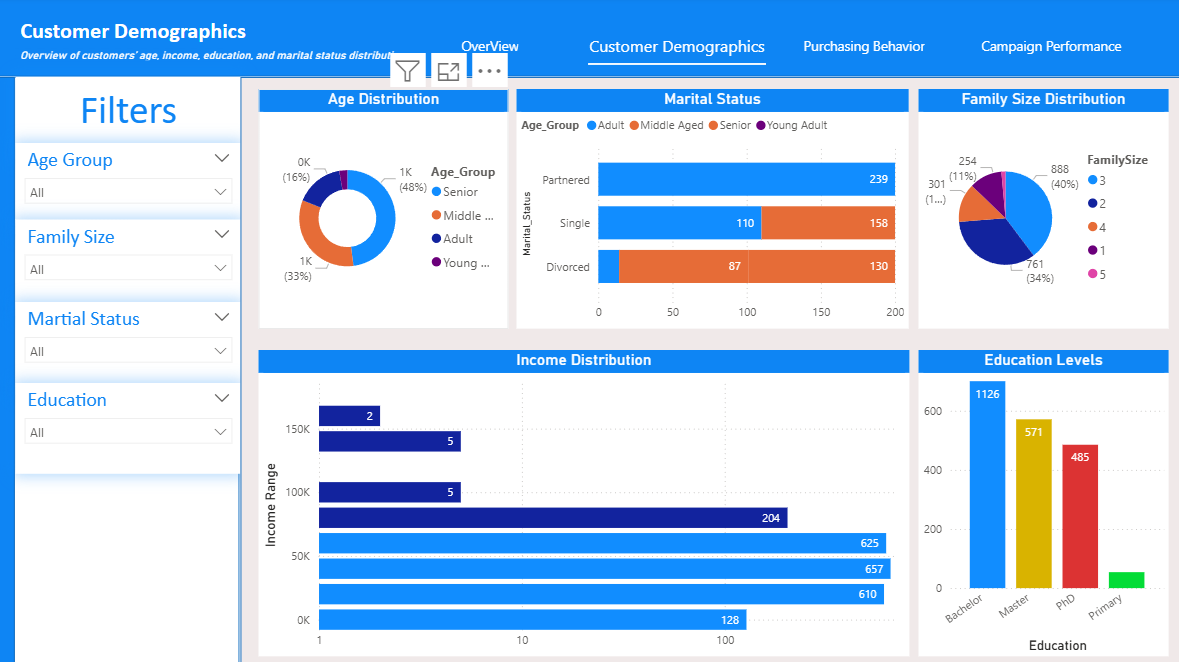

What the dashboard file says about the page in this screenshot:
{"tool":"powerbi","page":{"name":"Customer Demographics","canvas":[1280,720],"ordinal":1},"visuals":[{"type":"shape","box":[0,0,1281.3,86.9],"z":0},{"type":"shape","box":[0,86.9,17,633.1],"z":1000},{"type":"textbox","title":"Customer Demographics","box":[17,22.7,340.2,34],"z":2000},{"type":"textbox","title":"Overview of customers’ age, income, education, and marital status distribution","box":[17.8,56.7,461.5,13],"z":3000},{"type":"shape","box":[16.7,86.7,243.3,633.3],"z":4000},{"type":"textbox","title":"Filters","box":[17,86.9,243.8,88.8],"z":5000},{"type":"slicer","fields":{"Values":["Marketing Campaign CLeaned.Age_Group"]},"box":[17,158.7,243.8,98.3],"z":6000},{"type":"slicer","fields":{"Values":["Marketing Campaign CLeaned.FamilySize"]},"box":[17,241.9,243.8,103.9],"z":7000},{"type":"slicer","fields":{"Values":["Marketing Campaign CLeaned.Marital_Status"]},"box":[17,330.7,243.8,100.2],"z":8000},{"type":"slicer","fields":{"Values":["Marketing Campaign CLeaned.Education"]},"box":[17,417.6,243.8,98.3],"z":9000},{"type":"shape","box":[260.8,86.9,1018.6,633.1],"z":10000},{"type":"donutChart","title":"Age Distribution","fields":{"Category":["Marketing Campaign CLeaned.Age_Group"],"Y":["Marketing Campaign CLeaned.Total Customers"]},"box":[279.7,100.2,270.2,258.9],"z":11000},{"type":"barChart","title":"Income Distribution","fields":{"Category":["Marketing Campaign CLeaned.Income (bins) 2"],"Y":["Marketing Campaign CLeaned.Total Customers"]},"box":[279.7,381.7,703,330.7],"z":12000},{"type":"columnChart","title":"Education Levels","fields":{"Category":["Marketing Campaign CLeaned.Education"],"Y":["Marketing Campaign CLeaned.Total Customers"]},"box":[992.1,381.7,270.2,330.7],"z":13000},{"type":"barChart","title":"Marital Status","fields":{"Y":["Marketing Campaign CLeaned.Total Customers"],"Category":["Marketing Campaign CLeaned.Marital_Status"],"Series":["Marketing Campaign CLeaned.Age_Group"]},"box":[559.4,100.2,423.3,258.9],"z":14000},{"type":"pieChart","title":"Family Size Distribution","fields":{"Y":["Marketing Campaign CLeaned.Total Customers"],"Category":["Marketing Campaign CLeaned.FamilySize"]},"box":[992.1,100.2,270.2,258.9],"z":15000},{"type":"pageNavigator","box":[433.2,33.2,800.1,42.4],"z":15001}]}

Visuals, with their boxes on the page's 1280x720 design canvas (x1, y1, x2, y2). These are canvas units, not pixel positions in the 1179x662 screenshot, which may show the page scaled, cropped or inside an application window:
shape: {"x1": 0, "y1": 0, "x2": 1281, "y2": 87}
shape: {"x1": 0, "y1": 87, "x2": 17, "y2": 720}
"Customer Demographics" textbox: {"x1": 17, "y1": 23, "x2": 357, "y2": 57}
"Overview of customers’ age, income, education, and marital status distribution" textbox: {"x1": 18, "y1": 57, "x2": 479, "y2": 70}
shape: {"x1": 17, "y1": 87, "x2": 260, "y2": 720}
"Filters" textbox: {"x1": 17, "y1": 87, "x2": 261, "y2": 176}
slicer - Marketing Campaign CLeaned.Age_Group: {"x1": 17, "y1": 159, "x2": 261, "y2": 257}
slicer - Marketing Campaign CLeaned.FamilySize: {"x1": 17, "y1": 242, "x2": 261, "y2": 346}
slicer - Marketing Campaign CLeaned.Marital_Status: {"x1": 17, "y1": 331, "x2": 261, "y2": 431}
slicer - Marketing Campaign CLeaned.Education: {"x1": 17, "y1": 418, "x2": 261, "y2": 516}
shape: {"x1": 261, "y1": 87, "x2": 1279, "y2": 720}
"Age Distribution" donutChart: {"x1": 280, "y1": 100, "x2": 550, "y2": 359}
"Income Distribution" barChart: {"x1": 280, "y1": 382, "x2": 983, "y2": 712}
"Education Levels" columnChart: {"x1": 992, "y1": 382, "x2": 1262, "y2": 712}
"Marital Status" barChart: {"x1": 559, "y1": 100, "x2": 983, "y2": 359}
"Family Size Distribution" pieChart: {"x1": 992, "y1": 100, "x2": 1262, "y2": 359}
pageNavigator: {"x1": 433, "y1": 33, "x2": 1233, "y2": 76}
